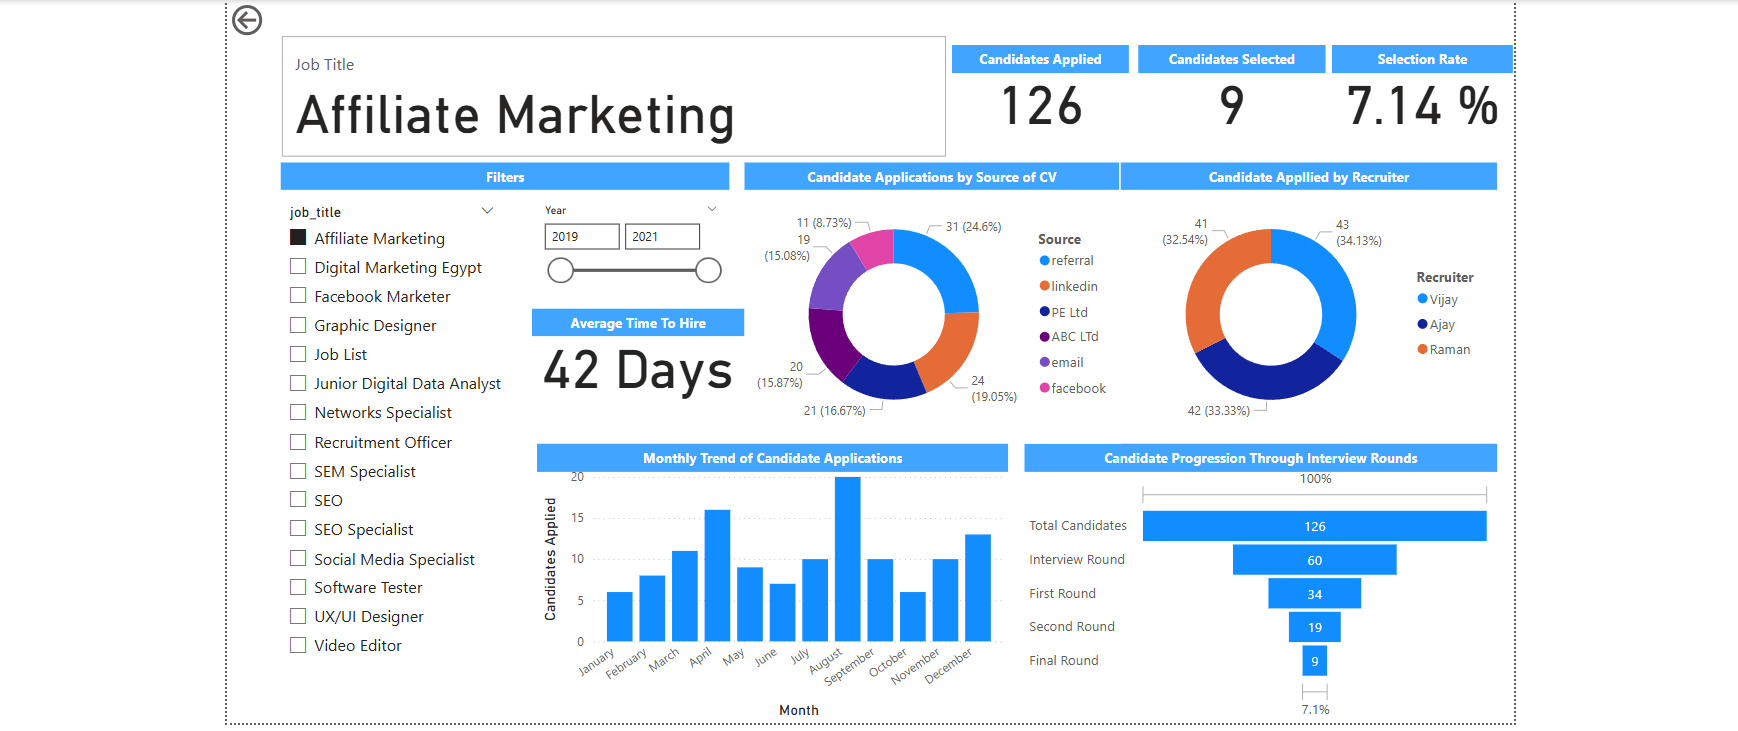

The dashboard page shown, as its layout file describes it:
{"tool":"powerbi","page":{"name":"Job Role Overview","canvas":[1280,720],"ordinal":1},"visuals":[{"type":"actionButton","box":[0,0,100,40],"z":0},{"type":"cardVisual","fields":{"Data":["Min(Recruitment.job_title)"]},"box":[49.4,31.7,671.8,130.6],"z":1000},{"type":"donutChart","fields":{"Category":["Recruitment.recruiter"],"Y":["Recruitment.total_candidates_applied"]},"box":[889.4,165.4,374.4,276.2],"z":2000},{"type":"columnChart","fields":{"Category":["Date_Dimension.Month Name"],"Y":["Recruitment.total_candidates_applied"]},"box":[308.5,441.6,470.2,278.6],"z":3000},{"type":"slicer","fields":{"Values":["Recruitment.job_title"]},"box":[49.4,197.7,228.2,466.5],"z":4000},{"type":"funnel","title":"Candidate Progression Through Interview Rounds ","fields":{"Y":["Recruitment.total_candidates_applied","Recruitment.selected_for_interview","Recruitment.selected_1st_round","Recruitment.selected_2nd_round","Recruitment.selected_last_round"]},"box":[793.9,441.1,470.3,278.9],"z":5000},{"type":"textbox","box":[793.9,441.1,470.3,27.9],"z":6000},{"type":"donutChart","title":"Candidate Applications by Source of CV","fields":{"Category":["Recruitment.source_of_cv"],"Y":["Recruitment.total_candidates_applied"]},"box":[515,165.4,374.4,276.2],"z":7000},{"type":"textbox","box":[515,161.7,373.2,27.4],"z":8000},{"type":"textbox","box":[308,441.1,469,27.9],"z":9000},{"type":"textbox","box":[53.5,161.7,446.6,27.4],"z":10000},{"type":"card","fields":{"Values":["Recruitment.total_candidates_applied"]},"box":[721.3,44.4,176.2,106.5],"z":11000},{"type":"card","fields":{"Values":["Recruitment.total_candidates_selected"]},"box":[906.3,44.4,186.3,106.5],"z":12000},{"type":"card","fields":{"Values":["Recruitment.average_time_to_hire"]},"box":[303.5,307.3,211.5,107],"z":13000},{"type":"textbox","box":[721.3,44.4,176.2,27.9],"z":14000},{"type":"textbox","box":[906.3,44.4,186.3,27.9],"z":15000},{"type":"textbox","box":[303.5,307.3,211.5,27.4],"z":16000},{"type":"card","fields":{"Values":["Recruitment.selection_rate"]},"box":[1100.3,44.4,180,105.2],"z":17000},{"type":"textbox","box":[1100.3,44.4,180,27.9],"z":18000},{"type":"textbox","box":[889.4,161.7,374.4,27.4],"z":19000},{"type":"slicer","fields":{"Values":["Date_Dimension.Year"]},"box":[303.5,197.8,196.5,105.7],"z":20000}]}

Visuals, with their boxes on the page's 1280x720 design canvas (x1, y1, x2, y2). These are canvas units, not pixel positions in the 1738x731 screenshot, which may show the page scaled, cropped or inside an application window:
actionButton: 0:0:100:40
cardVisual - Min(Recruitment.job_title): 49:32:721:162
donutChart - Recruitment.recruiter x Recruitment.total_candidates_applied: 889:165:1264:442
columnChart - Date_Dimension.Month Name x Recruitment.total_candidates_applied: 308:442:779:720
slicer - Recruitment.job_title: 49:198:278:664
"Candidate Progression Through Interview Rounds " funnel: 794:441:1264:720
textbox: 794:441:1264:469
"Candidate Applications by Source of CV" donutChart: 515:165:889:442
textbox: 515:162:888:189
textbox: 308:441:777:469
textbox: 54:162:500:189
card - Recruitment.total_candidates_applied: 721:44:898:151
card - Recruitment.total_candidates_selected: 906:44:1093:151
card - Recruitment.average_time_to_hire: 304:307:515:414
textbox: 721:44:898:72
textbox: 906:44:1093:72
textbox: 304:307:515:335
card - Recruitment.selection_rate: 1100:44:1280:150
textbox: 1100:44:1280:72
textbox: 889:162:1264:189
slicer - Date_Dimension.Year: 304:198:500:304
